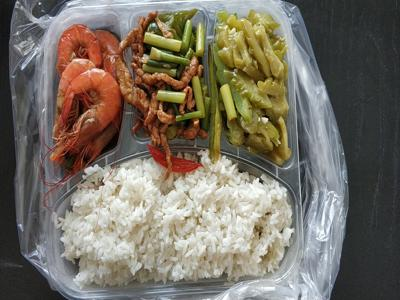rice: (77, 167, 294, 289)
st: (128, 11, 212, 149)
